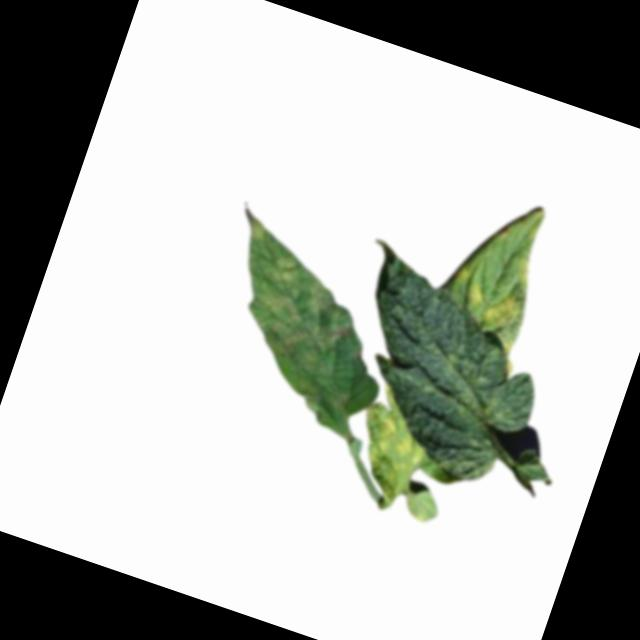Leaf_Mold: (191, 206, 384, 425), (347, 385, 443, 499), (457, 278, 530, 339), (503, 251, 539, 287), (453, 258, 475, 284)
